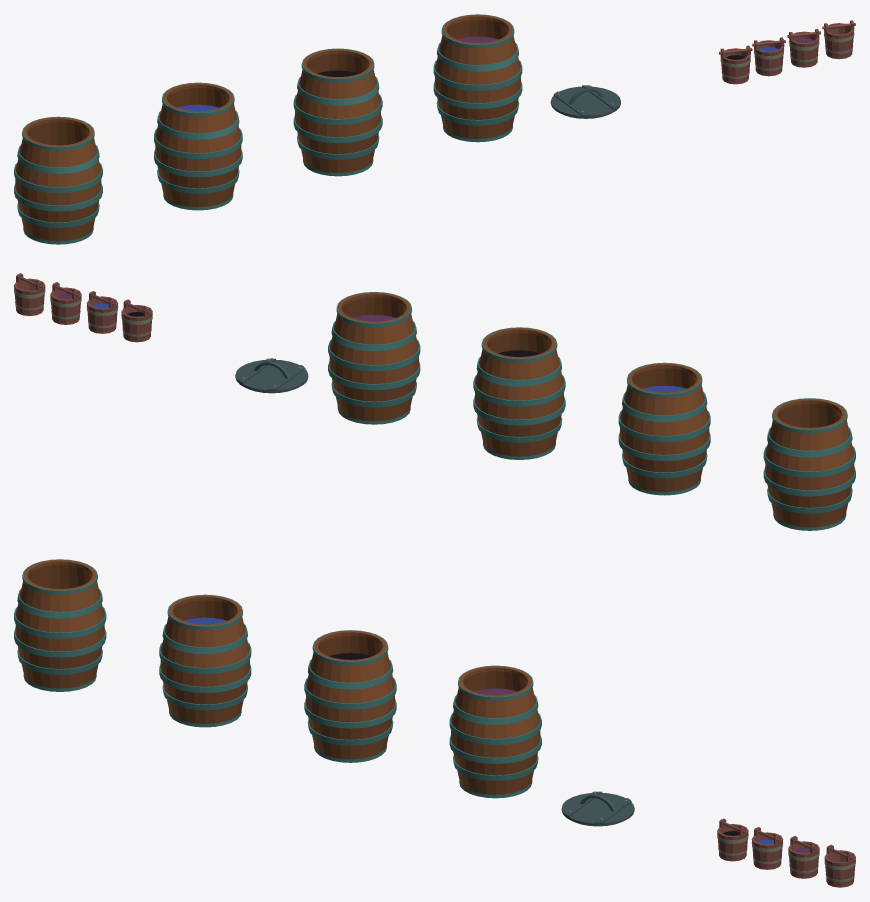
The model's file is Blacksmith Tools 5.fbx.
3 renders of one model, top to bottom at view 1: azimuth 30°, elevation 25°; view 2: azimuth 150°, elevation 25°; view 3: azimuth 330°, elevation 25°, orthographic. The views are drawn at different scales.
Visible parts, largest first — view 1: Barrel1, Barrel2, Barrel3, Barrel4, Barrel_Lid1, Bucket4, Bucket3, Bucket2, Bucket1; view 2: Barrel1, Barrel3, Barrel2, Barrel4, Barrel_Lid1, Bucket4, Bucket1, Bucket3, Bucket2; view 3: Barrel1, Barrel2, Barrel3, Barrel4, Barrel_Lid1, Bucket4, Bucket1, Bucket3, Bucket2.
Boxes of the visible parts, box(x1,y1,x2,y2) form: Barrel1: box(14, 116, 102, 244); Barrel2: box(293, 48, 382, 176); Barrel3: box(433, 14, 522, 142); Barrel4: box(154, 82, 242, 210); Barrel_Lid1: box(550, 85, 620, 118); Bucket4: box(822, 20, 855, 59); Bucket3: box(719, 45, 752, 84); Bucket2: box(752, 37, 785, 76); Bucket1: box(787, 28, 820, 67); Barrel1: box(763, 398, 855, 530); Barrel3: box(328, 292, 420, 424); Barrel2: box(473, 327, 565, 459); Barrel4: box(618, 362, 710, 495); Barrel_Lid1: box(235, 358, 308, 393); Bucket4: box(14, 273, 45, 315); Bucket1: box(50, 282, 81, 324); Bucket3: box(121, 299, 152, 342); Bucket2: box(86, 291, 118, 333); Barrel1: box(14, 559, 106, 691); Barrel2: box(304, 630, 396, 762); Barrel3: box(449, 665, 541, 798); Barrel4: box(159, 594, 251, 727); Barrel_Lid1: box(561, 791, 634, 826); Bucket4: box(824, 844, 855, 887); Bucket1: box(788, 836, 819, 878); Bucket3: box(717, 818, 748, 861); Bucket2: box(751, 827, 783, 869).
Bounding box in the file's own units: 781 × 89 × 73.4.
